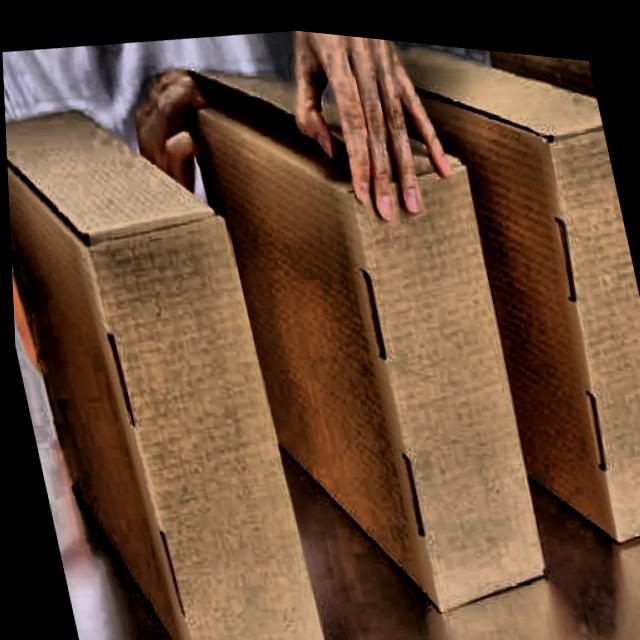Cardbox: (2, 71, 335, 640)
